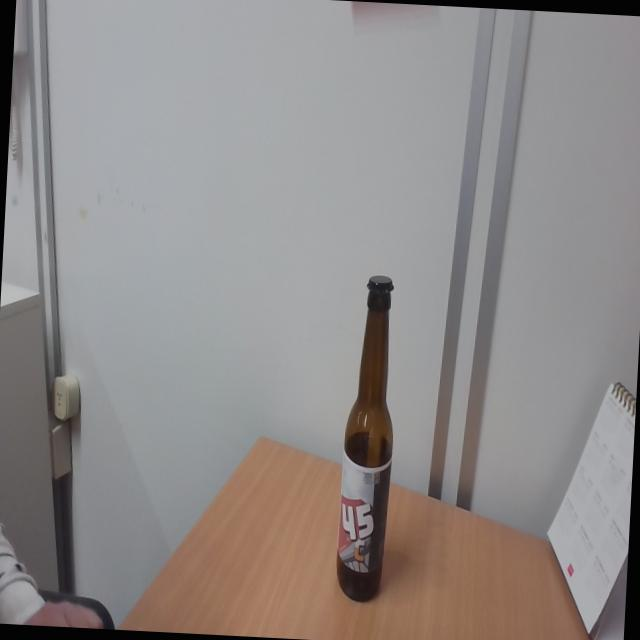Bottle: (333, 290, 402, 601)
Cap: (365, 274, 396, 294)
Label: (336, 448, 392, 580)
